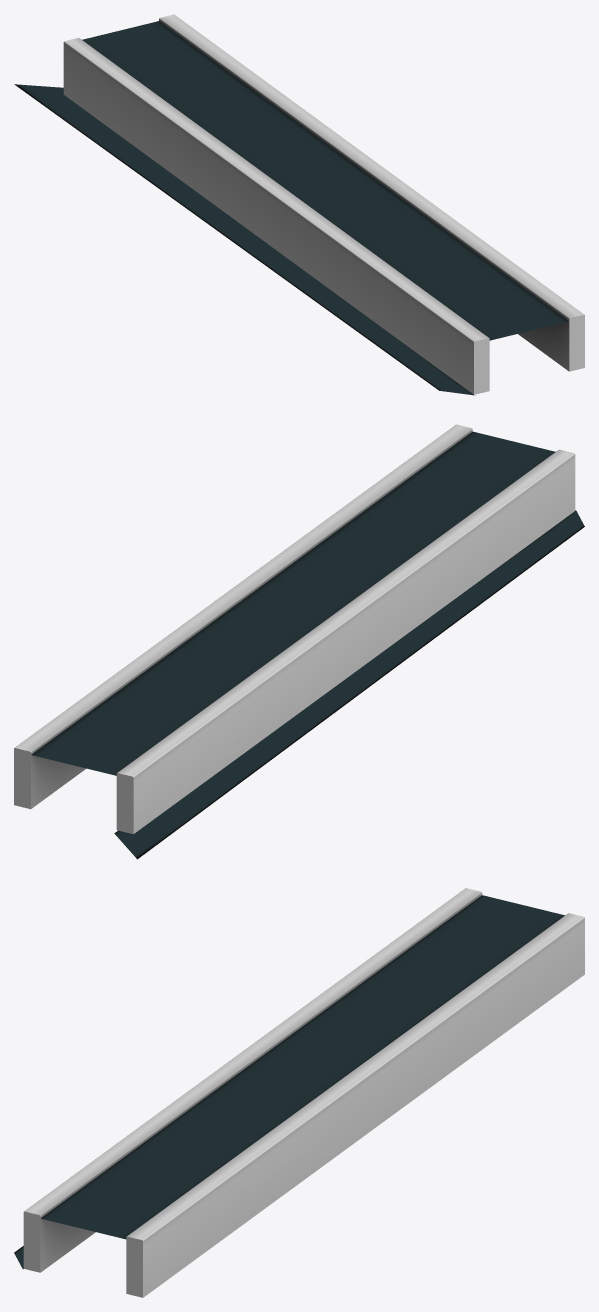
File: belt_00.fbx
3 views of the same model, one above another, from view 1: azimuth 30°, elevation 25°; view 2: azimuth 150°, elevation 25°; view 3: azimuth 330°, elevation 25° (orthographic). The views are drawn at different scales.
Parts seen in each view (by area): view 1: belt_1_side, belt_1, belt_1 shadow; view 2: belt_1_side, belt_1, belt_1 shadow; view 3: belt_1_side, belt_1.
Boxes of the visible parts, x1,y1,x2,y2 form: belt_1_side: (63, 14, 584, 394); belt_1: (82, 21, 568, 340); belt_1 shadow: (14, 84, 474, 395); belt_1_side: (14, 424, 575, 834); belt_1: (31, 431, 555, 775); belt_1 shadow: (114, 510, 584, 859); belt_1_side: (23, 888, 584, 1297); belt_1: (41, 895, 564, 1239).
Bounding box in the file's own units: 15.55 × 5.76 × 84.98.
Materials: 1 (1 with a texture image).
